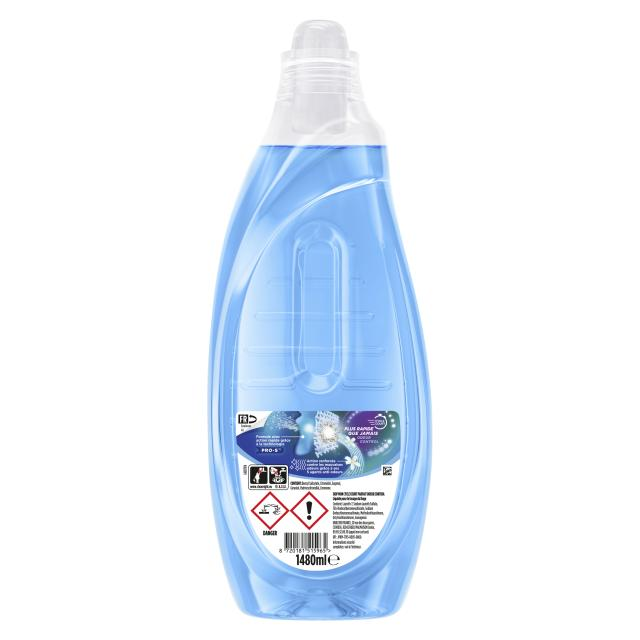GHS_Symbol_CORROSION: (250, 490, 290, 530)
GHS_Symbol_EXCLAMATION_MARK: (290, 491, 328, 530)
